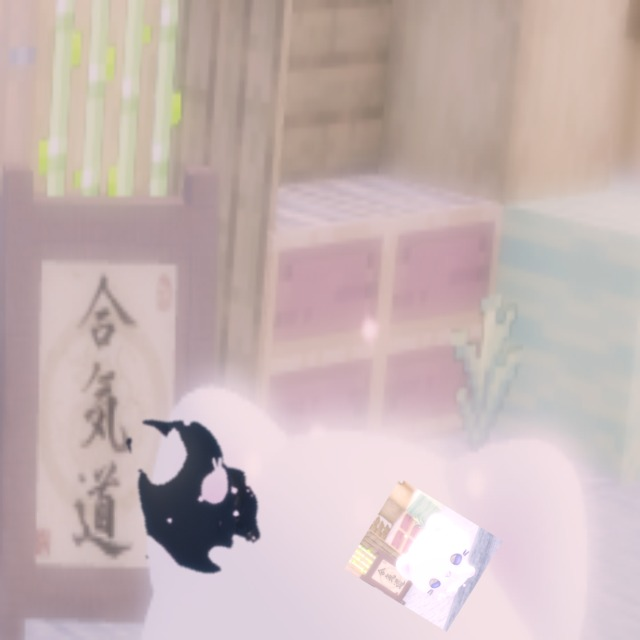urso_branco: (344, 478, 503, 632)
urso_preto: (86, 369, 297, 620)
